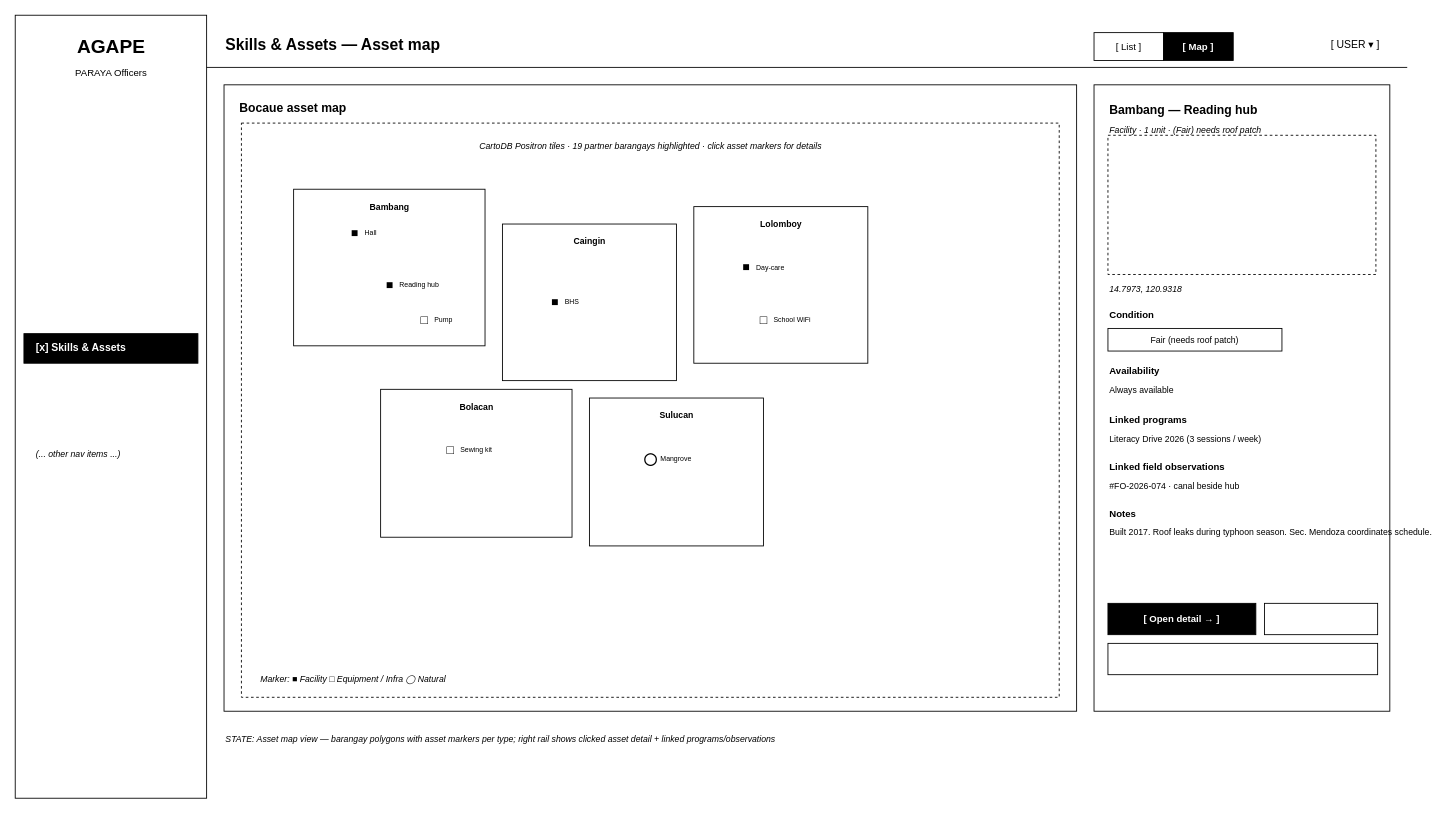
This 1448x813 diagram has some shape labels left out. Each missing label, with the box of its shape:
[ ph: reading-hub.jpg ]: (1107, 134, 1376, 274)
[ Schedule repair ]: (1107, 642, 1378, 675)
[ ✎ Edit ]: (1264, 602, 1378, 635)
